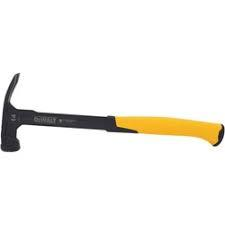hammer: (0, 71, 223, 153)
